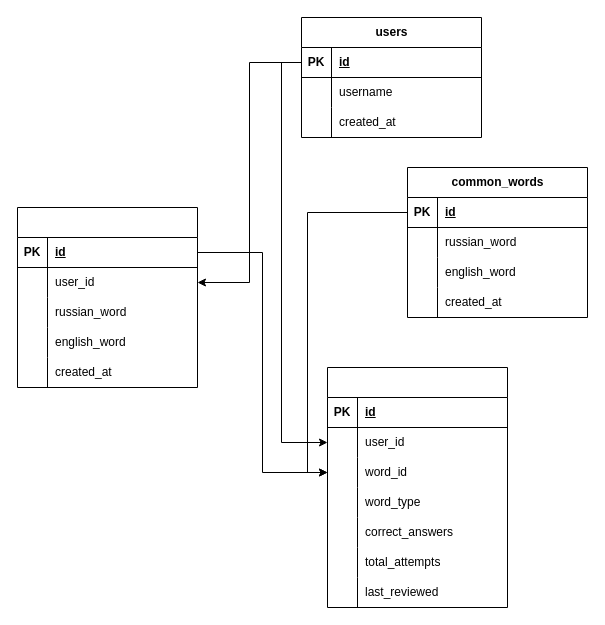
This 605x625 diagram has some shape labels left out. The box of each missing label's shape, as (x1, y1, x2, y2) in pixels:
learning_stats: (326, 366, 508, 608)
user_words: (16, 206, 198, 388)
